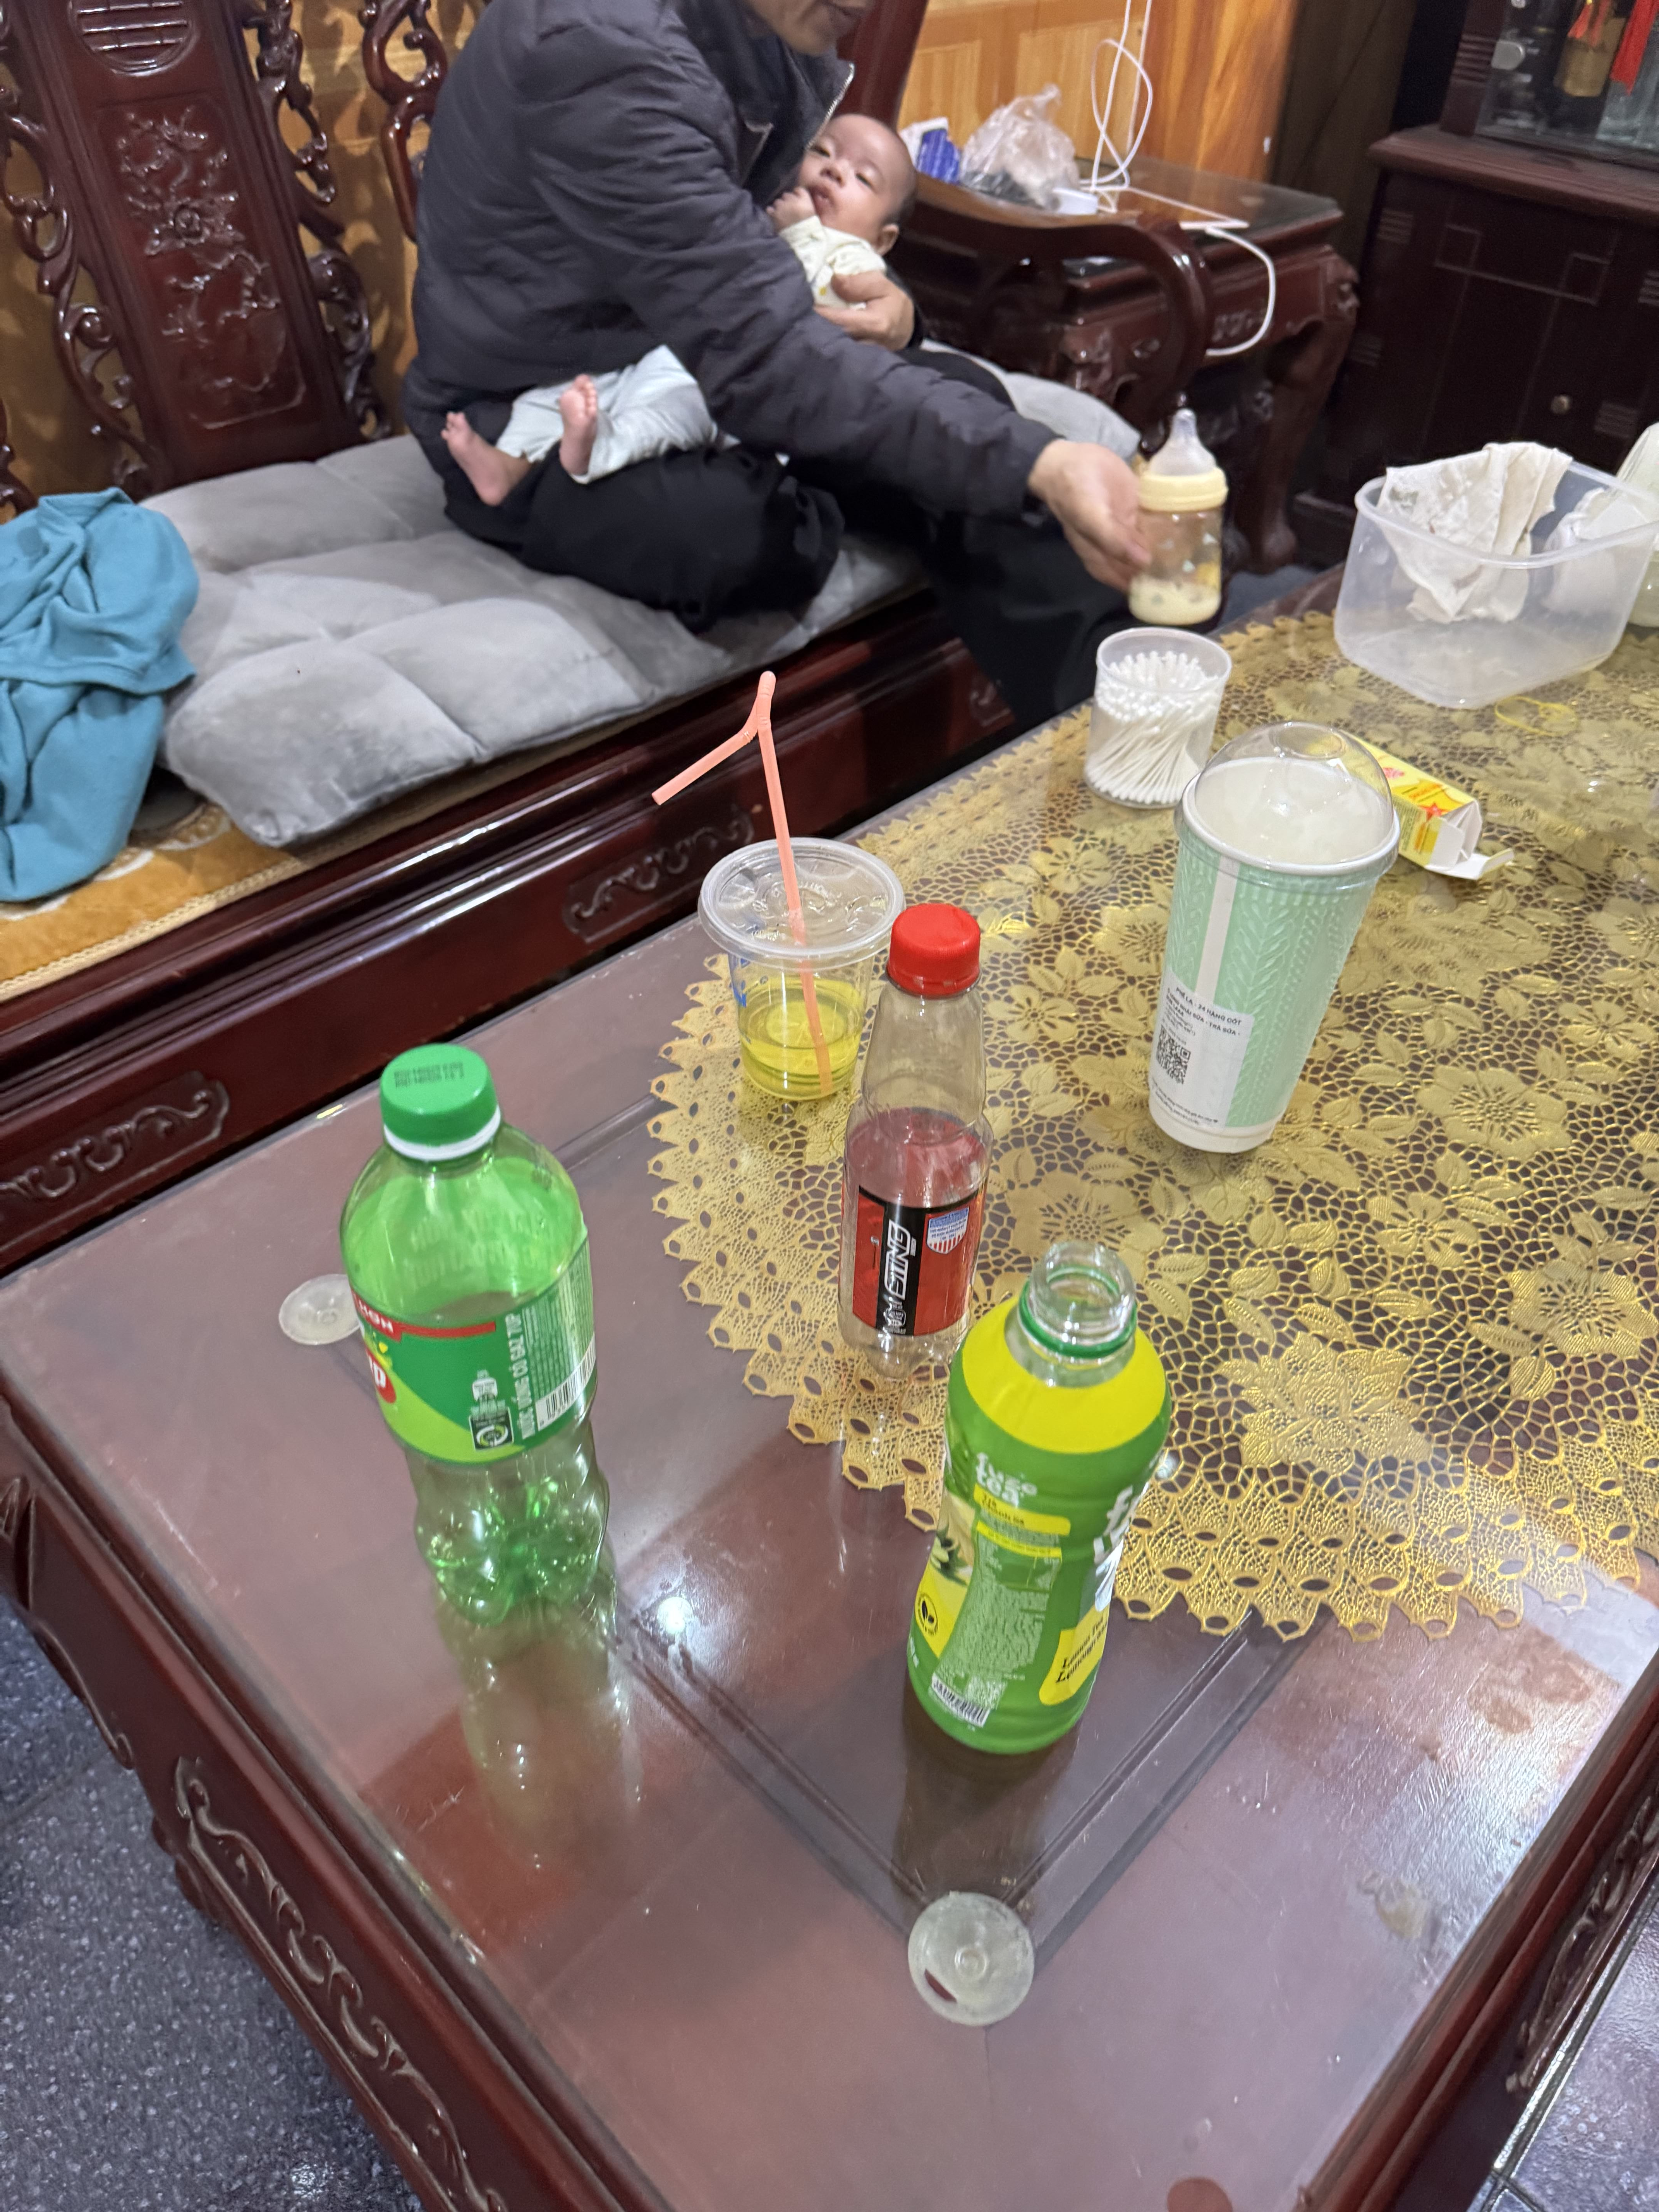2: (626, 653, 910, 1120), (1148, 711, 1401, 1214)
bottle: (336, 1029, 666, 1646), (854, 1230, 1190, 1797), (805, 885, 1061, 1379)
